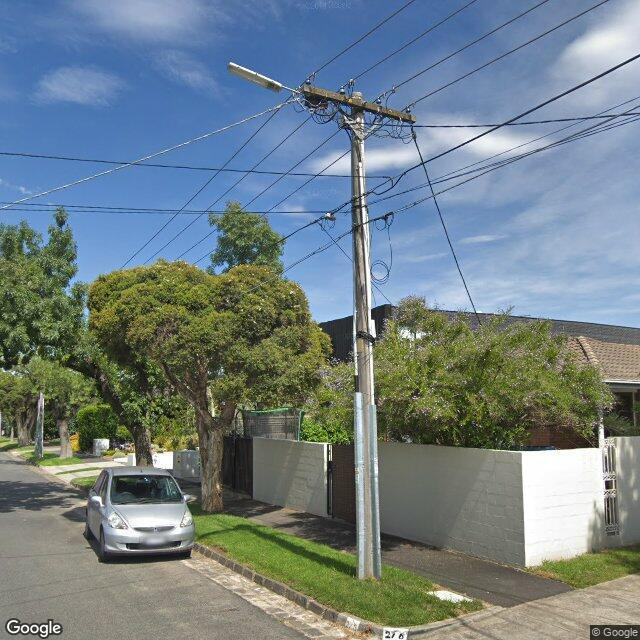crossarm: (292, 71, 417, 144)
streetlight: (227, 61, 302, 97)
timber-pole: (350, 91, 380, 579)
